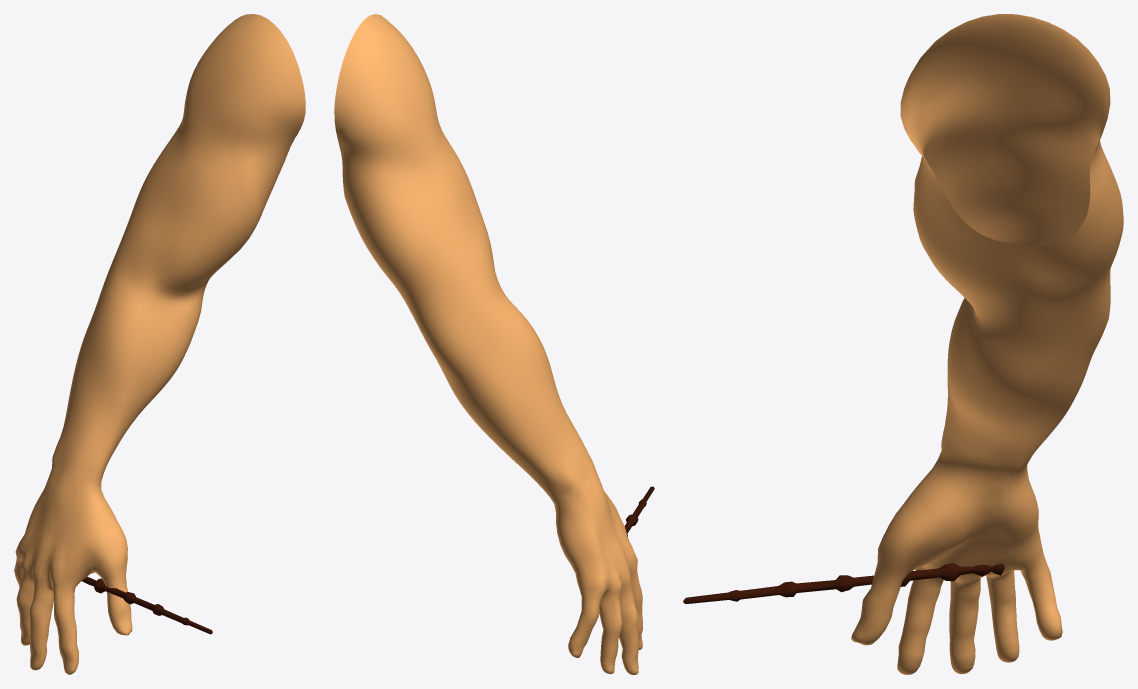
Rendered from rightarm_wand.obj.
The picture shows the model from 3 angles, left to right: view 1: azimuth 30°, elevation 25°; view 2: azimuth 150°, elevation 25°; view 3: azimuth 270°, elevation 25°; orthographic projection. The views are drawn at different scales.
Parts seen in each view (by area): view 1: body, Cylinder; view 2: body; view 3: body, Cylinder.
Boxes of the visible parts, bbox=[...] form: body: bbox=[14, 14, 305, 674]; Cylinder: bbox=[81, 576, 212, 634]; body: bbox=[334, 14, 642, 674]; body: bbox=[851, 14, 1123, 674]; Cylinder: bbox=[683, 563, 1004, 603].
Size of the model in its own units: 3.62 by 7.95 by 3.83.
